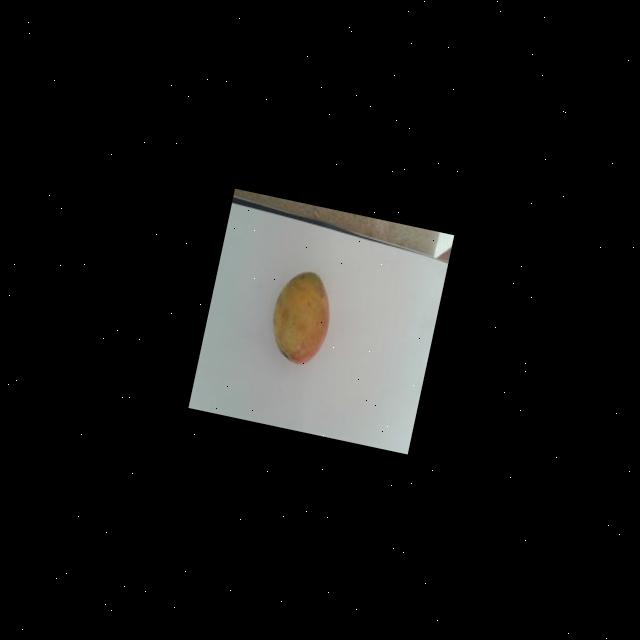Mango: (262, 263, 338, 367)
